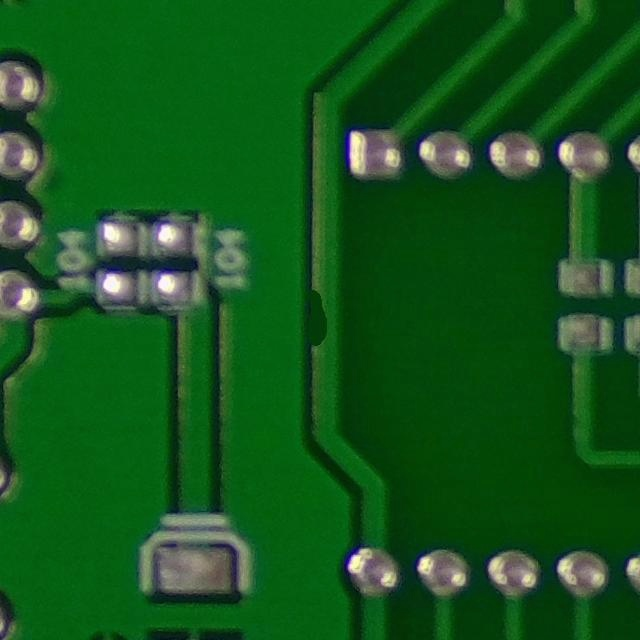mouse_bite: (291, 279, 350, 362)
